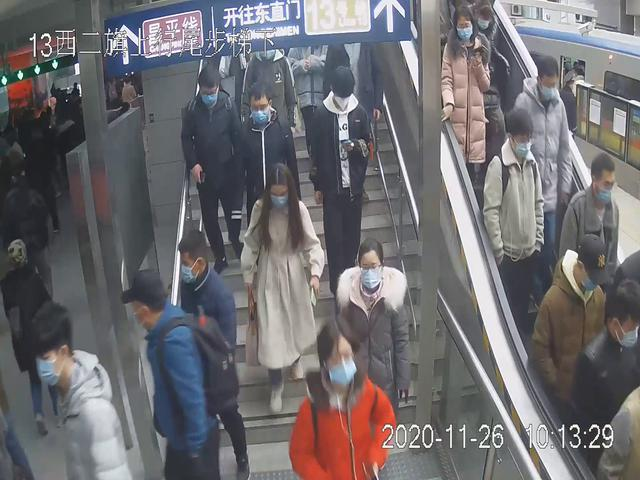person: (114, 263, 237, 480), (237, 158, 329, 423), (174, 229, 251, 480), (332, 232, 416, 453), (474, 105, 550, 349), (307, 64, 379, 308), (507, 55, 573, 306), (178, 66, 252, 273), (439, 2, 495, 233), (237, 79, 301, 243)
